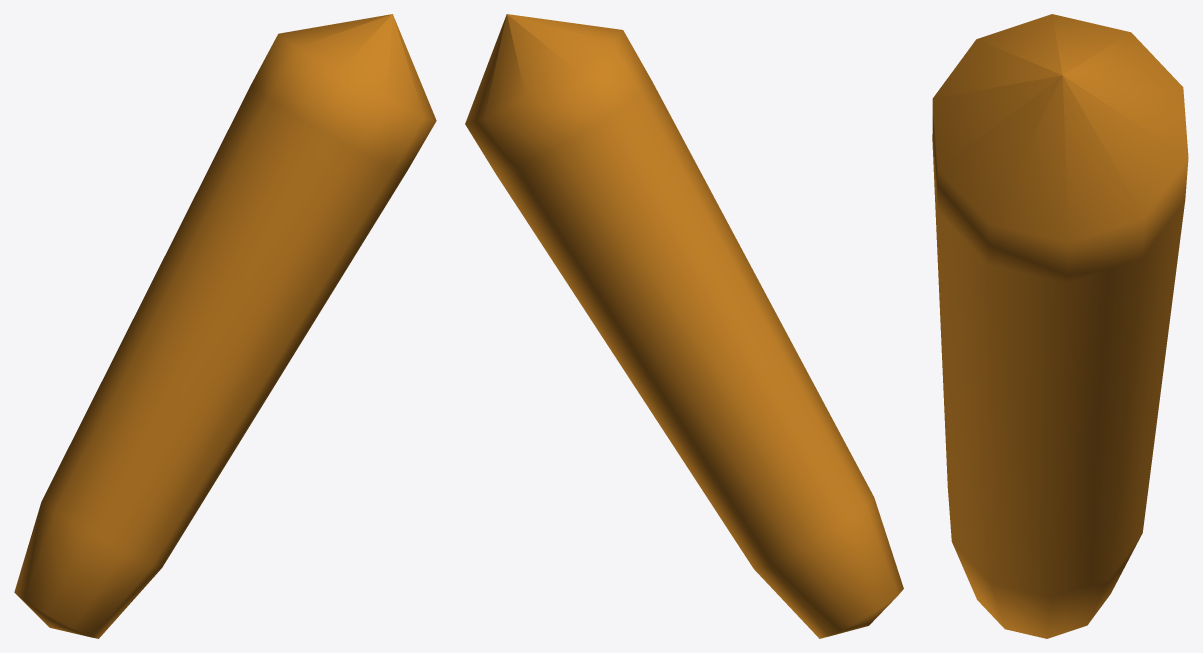
The model's file is forearm_R.obj.
The picture shows the model from 3 angles, left to right: view 1: azimuth 30°, elevation 25°; view 2: azimuth 150°, elevation 25°; view 3: azimuth 270°, elevation 25°; orthographic projection. The views are drawn at different scales.
Visible parts, largest first — view 1: forearm_R; view 2: forearm_R; view 3: forearm_R.
Boxes of the visible parts, x1,y1,x2,y2 form: forearm_R: [14, 14, 436, 638]; forearm_R: [465, 14, 903, 638]; forearm_R: [932, 14, 1188, 638].
Size of the model in its own units: 0.208 by 0.2637 by 0.0782.
